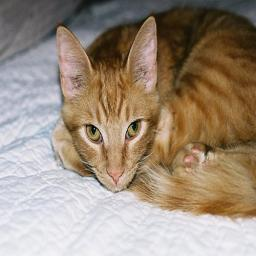catnose: (106, 162, 125, 187)
